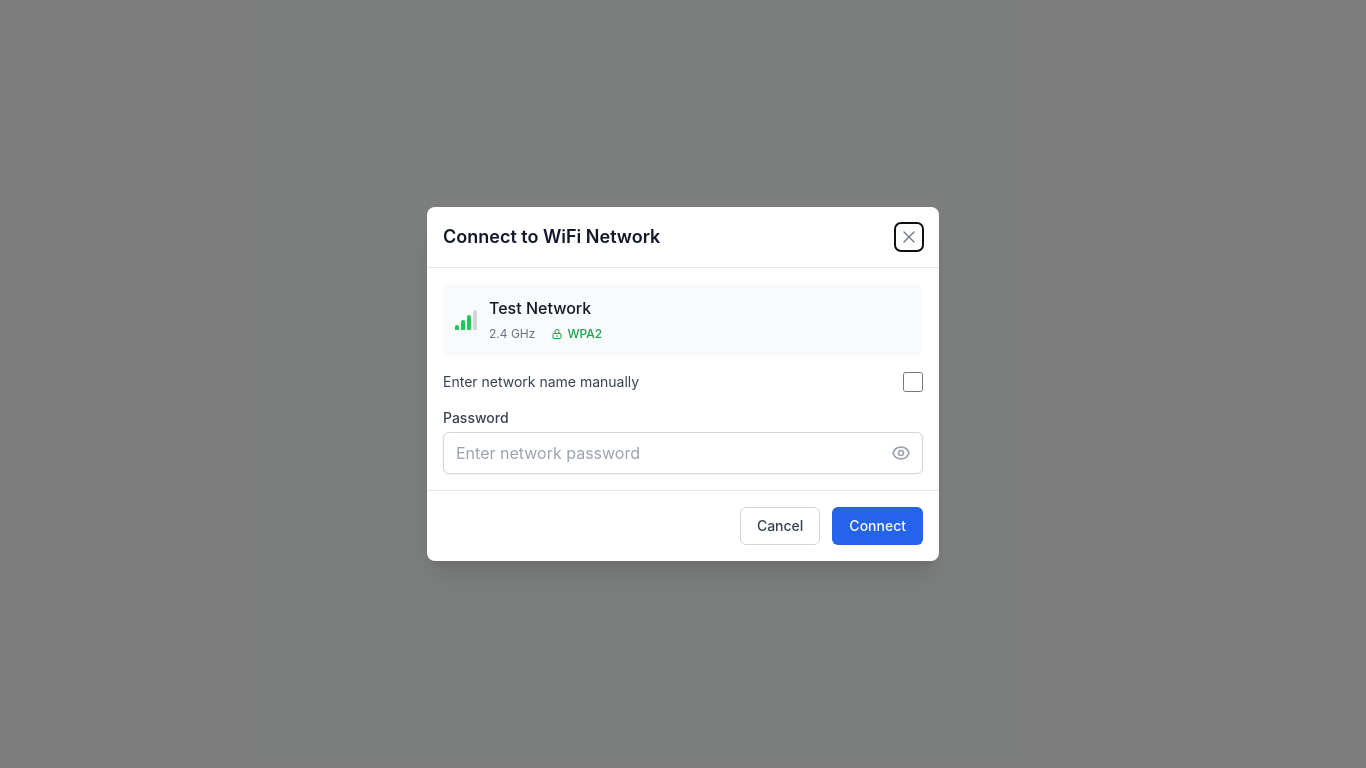
Scenario: WiFiConnectionDialog › custom SSID functionality › shows custom SSID input when toggle is enabled
This screenshot has width=1366, height=768.
Click the checkbox labelled "Enter network name manually" at (913, 382), box [903,372,923,392]
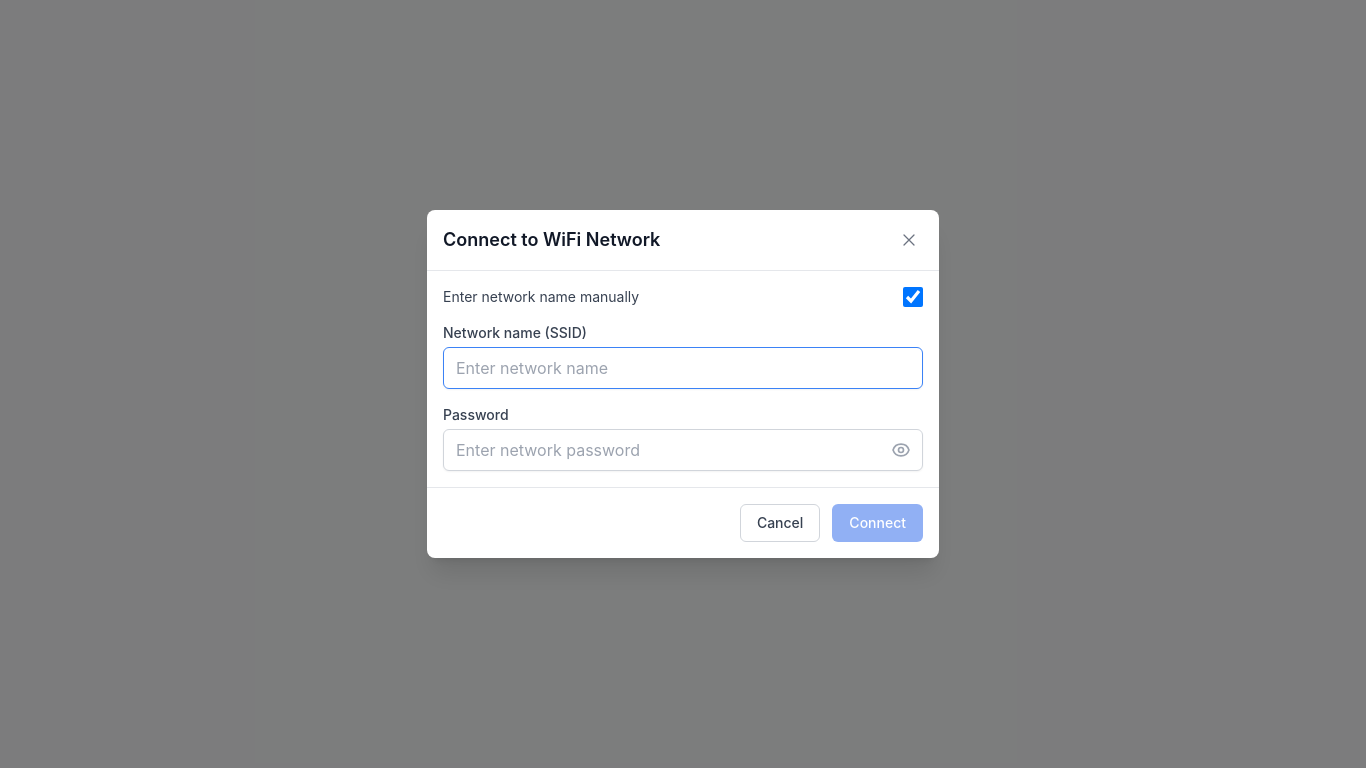
expect the field labelled "Network name (SSID)" is shown: met, box [443,347,923,389]
